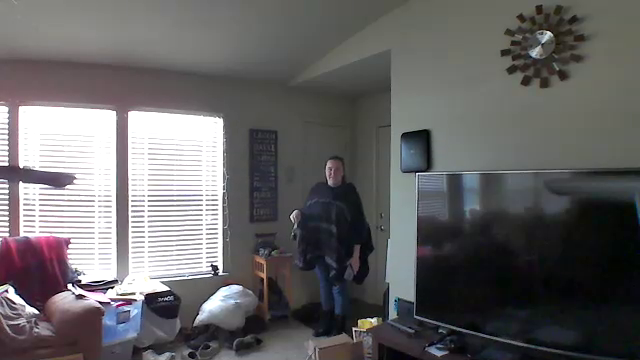down: (285, 207, 304, 232)
